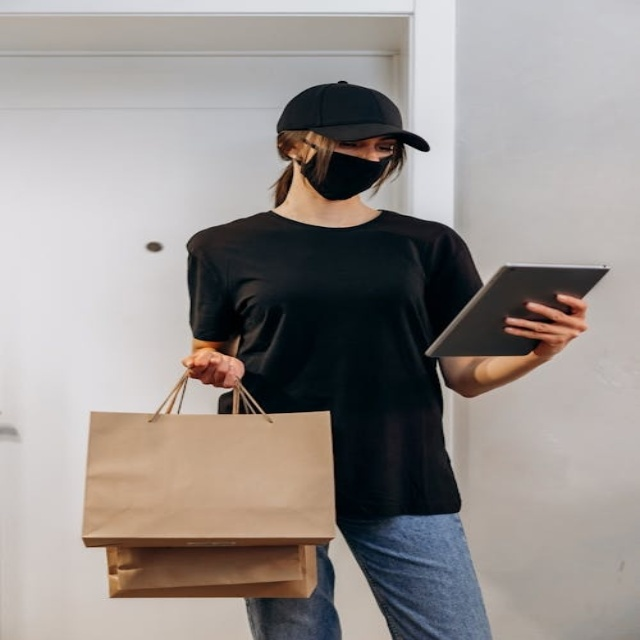Mascara: (297, 139, 393, 199)
Sin_gafas: (334, 137, 393, 152)
Sin_guantes: (502, 292, 590, 359), (179, 345, 248, 388)
